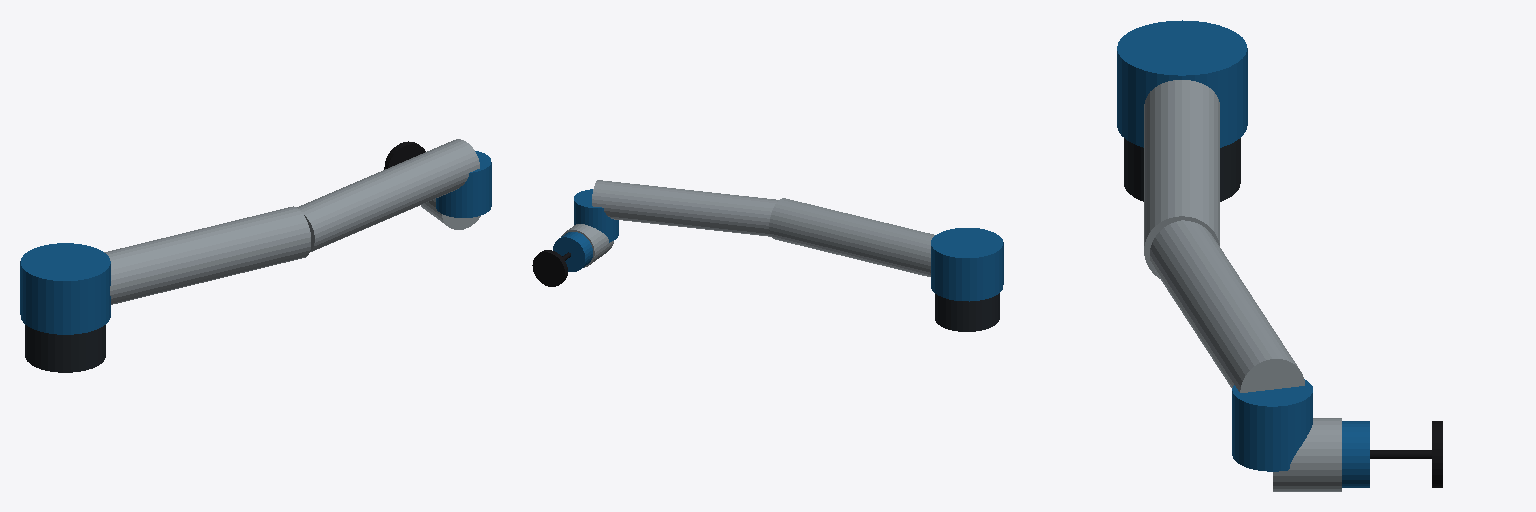
URDF robot description (ur20_primitive):
<?xml version="1.0"?>
<!--
  Primitive visual/collision approximation of a UR20.

  Joint origins and limits follow UniversalRobots/
  Universal_Robots_ROS2_Description 4.3.1 and the nominal model previously
  used in BGF/example/pixi. The cylinders and boxes are intentionally local,
  mesh-free proxies; they are not official UR graphical assets.
-->
<robot name="ur20_primitive">
  <material name="ur_gray"><color rgba="0.58 0.61 0.63 1"/></material>
  <material name="ur_blue"><color rgba="0.12 0.38 0.56 1"/></material>
  <material name="dark"><color rgba="0.16 0.18 0.20 1"/></material>
  <material name="suction"><color rgba="0.12 0.12 0.13 1"/></material>

  <link name="world"/>

  <link name="base_link">
    <visual>
      <origin xyz="0 0 0.11815" rpy="0 0 0"/>
      <geometry><cylinder radius="0.130" length="0.2363"/></geometry>
      <material name="dark"/>
    </visual>
    <collision>
      <origin xyz="0 0 0.11815" rpy="0 0 0"/>
      <geometry><cylinder radius="0.135" length="0.2363"/></geometry>
    </collision>
  </link>

  <link name="base_link_inertia"/>

  <link name="shoulder_link">
    <visual>
      <origin xyz="0 0 0" rpy="0 0 0"/>
      <geometry><cylinder radius="0.145" length="0.190"/></geometry>
      <material name="ur_blue"/>
    </visual>
    <collision>
      <origin xyz="0 0 0" rpy="0 0 0"/>
      <geometry><cylinder radius="0.150" length="0.200"/></geometry>
    </collision>
  </link>

  <link name="upper_arm_link">
    <visual>
      <origin xyz="-0.431 0 0" rpy="0 -1.57079632679 0"/>
      <geometry><cylinder radius="0.085" length="0.862"/></geometry>
      <material name="ur_gray"/>
    </visual>
    <collision>
      <origin xyz="-0.431 0 0" rpy="0 -1.57079632679 0"/>
      <geometry><cylinder radius="0.095" length="0.862"/></geometry>
    </collision>
  </link>

  <link name="forearm_link">
    <visual>
      <origin xyz="-0.36435 0 0.1005" rpy="0 -1.30193 0"/>
      <geometry><cylinder radius="0.075" length="0.75591"/></geometry>
      <material name="ur_gray"/>
    </visual>
    <collision>
      <origin xyz="-0.36435 0 0.1005" rpy="0 -1.30193 0"/>
      <geometry><cylinder radius="0.085" length="0.75591"/></geometry>
    </collision>
  </link>

  <link name="wrist_1_link">
    <visual>
      <origin xyz="0 -0.07965 0" rpy="1.57079632679 0 0"/>
      <geometry><cylinder radius="0.090" length="0.1593"/></geometry>
      <material name="ur_blue"/>
    </visual>
    <collision>
      <origin xyz="0 -0.07965 0" rpy="1.57079632679 0 0"/>
      <geometry><cylinder radius="0.098" length="0.1593"/></geometry>
    </collision>
  </link>

  <link name="wrist_2_link">
    <visual>
      <origin xyz="0 0.07715 0" rpy="-1.57079632679 0 0"/>
      <geometry><cylinder radius="0.082" length="0.1543"/></geometry>
      <material name="ur_gray"/>
    </visual>
    <collision>
      <origin xyz="0 0.07715 0" rpy="-1.57079632679 0 0"/>
      <geometry><cylinder radius="0.090" length="0.1543"/></geometry>
    </collision>
  </link>

  <link name="wrist_3_link">
    <visual>
      <origin xyz="0 0 0" rpy="0 0 0"/>
      <geometry><cylinder radius="0.075" length="0.125"/></geometry>
      <material name="ur_blue"/>
    </visual>
    <collision>
      <origin xyz="0 0 0" rpy="0 0 0"/>
      <geometry><cylinder radius="0.083" length="0.135"/></geometry>
    </collision>
  </link>

  <link name="ft_frame"/>
  <link name="base"/>
  <link name="flange"/>
  <link name="tool0"/>

  <link name="suction_gripper">
    <visual>
      <origin xyz="0 0 0.10" rpy="0 0 0"/>
      <geometry><cylinder radius="0.010" length="0.20"/></geometry>
      <material name="suction"/>
    </visual>
    <collision>
      <origin xyz="0 0 0.10" rpy="0 0 0"/>
      <geometry><cylinder radius="0.010" length="0.20"/></geometry>
    </collision>
  </link>

  <link name="suction_pad">
    <visual>
      <origin xyz="0 0 0.012" rpy="0 0 0"/>
      <geometry><cylinder radius="0.075" length="0.024"/></geometry>
      <material name="suction"/>
    </visual>
    <collision>
      <origin xyz="0 0 0.012" rpy="0 0 0"/>
      <geometry><cylinder radius="0.075" length="0.024"/></geometry>
    </collision>
  </link>

  <joint name="base_joint" type="fixed">
    <parent link="world"/>
    <child link="base_link"/>
    <origin xyz="0 0 0" rpy="0 0 0"/>
  </joint>

  <joint name="base_link-base_link_inertia" type="fixed">
    <parent link="base_link"/>
    <child link="base_link_inertia"/>
    <origin xyz="0 0 0" rpy="0 0 3.141592653589793"/>
  </joint>

  <joint name="shoulder_pan_joint" type="revolute">
    <parent link="base_link_inertia"/>
    <child link="shoulder_link"/>
    <origin xyz="0 0 0.2363" rpy="0 0 0"/>
    <axis xyz="0 0 1"/>
    <limit lower="-6.28318530718" upper="6.28318530718" effort="738" velocity="2.09439510239"/>
  </joint>

  <joint name="shoulder_lift_joint" type="revolute">
    <parent link="shoulder_link"/>
    <child link="upper_arm_link"/>
    <origin xyz="0 0 0" rpy="1.570796327 0 0"/>
    <axis xyz="0 0 1"/>
    <limit lower="-6.28318530718" upper="6.28318530718" effort="738" velocity="2.09439510239"/>
  </joint>

  <joint name="elbow_joint" type="revolute">
    <parent link="upper_arm_link"/>
    <child link="forearm_link"/>
    <origin xyz="-0.862 0 0" rpy="0 0 0"/>
    <axis xyz="0 0 1"/>
    <limit lower="-3.14159265359" upper="3.14159265359" effort="433" velocity="2.61799387799"/>
  </joint>

  <joint name="wrist_1_joint" type="revolute">
    <parent link="forearm_link"/>
    <child link="wrist_1_link"/>
    <origin xyz="-0.7287 0 0.201" rpy="0 0 0"/>
    <axis xyz="0 0 1"/>
    <limit lower="-6.28318530718" upper="6.28318530718" effort="107" velocity="3.66519142919"/>
  </joint>

  <joint name="wrist_2_joint" type="revolute">
    <parent link="wrist_1_link"/>
    <child link="wrist_2_link"/>
    <origin xyz="0 -0.1593 0" rpy="1.570796327 0 0"/>
    <axis xyz="0 0 1"/>
    <limit lower="-6.28318530718" upper="6.28318530718" effort="107" velocity="3.66519142919"/>
  </joint>

  <joint name="wrist_3_joint" type="revolute">
    <parent link="wrist_2_link"/>
    <child link="wrist_3_link"/>
    <origin xyz="0 0.1543 0" rpy="1.57079632659 3.14159265359 3.14159265359"/>
    <axis xyz="0 0 1"/>
    <limit lower="-6.28318530718" upper="6.28318530718" effort="107" velocity="3.66519142919"/>
  </joint>

  <joint name="wrist_3_link-ft_frame" type="fixed">
    <parent link="wrist_3_link"/>
    <child link="ft_frame"/>
    <origin xyz="0 0 0" rpy="3.14159265359 0 0"/>
  </joint>
  <joint name="base_link-base_fixed_joint" type="fixed">
    <parent link="base_link"/>
    <child link="base"/>
    <origin xyz="0 0 0" rpy="0 0 3.14159265359"/>
  </joint>
  <joint name="wrist_3-flange" type="fixed">
    <parent link="wrist_3_link"/>
    <child link="flange"/>
    <origin xyz="0 0 0" rpy="0 -1.57079632679 -1.57079632679"/>
  </joint>
  <joint name="flange-tool0" type="fixed">
    <parent link="flange"/>
    <child link="tool0"/>
    <origin xyz="0 0 0" rpy="1.57079632679 0 1.57079632679"/>
  </joint>
  <joint name="tool0-suction_gripper" type="fixed">
    <parent link="tool0"/>
    <child link="suction_gripper"/>
    <origin xyz="0 0 0" rpy="0 0 0"/>
  </joint>
  <joint name="suction_gripper-pad" type="fixed">
    <parent link="suction_gripper"/>
    <child link="suction_pad"/>
    <origin xyz="0 0 0.20" rpy="0 0 0"/>
  </joint>
</robot>

--- Render facts (derived) ---
The picture shows the robot from 3 angles, left to right: view 1: azimuth 30°, elevation 25°; view 2: azimuth 150°, elevation 25°; view 3: azimuth 270°, elevation 25°; orthographic projection.
Model ur20_primitive with 15 links and 14 joints (6 revolute, 8 fixed), rooted at world, posed every joint at zero.
Visible links, largest first — view 1: upper_arm_link, forearm_link, shoulder_link, base_link, wrist_1_link, suction_pad, wrist_2_link; view 2: upper_arm_link, forearm_link, shoulder_link, base_link, wrist_1_link, wrist_3_link, suction_pad, wrist_2_link; view 3: forearm_link, upper_arm_link, shoulder_link, wrist_1_link, wrist_2_link, base_link, wrist_3_link, suction_pad, suction_gripper.
Boxes of the visible links, <box> form: upper_arm_link: <box>104,206,310,304</box>; forearm_link: <box>297,139,479,251</box>; shoulder_link: <box>20,243,110,334</box>; base_link: <box>25,325,105,372</box>; wrist_1_link: <box>436,151,491,217</box>; suction_pad: <box>384,141,425,169</box>; wrist_2_link: <box>421,199,480,229</box>; upper_arm_link: <box>769,198,934,276</box>; forearm_link: <box>592,180,778,236</box>; shoulder_link: <box>931,228,1003,301</box>; base_link: <box>935,293,999,331</box>; wrist_1_link: <box>574,189,618,242</box>; wrist_3_link: <box>553,232,592,271</box>; suction_pad: <box>532,250,567,286</box>; wrist_2_link: <box>561,224,613,267</box>; forearm_link: <box>1150,220,1304,392</box>; upper_arm_link: <box>1144,80,1219,278</box>; shoulder_link: <box>1117,20,1247,147</box>; wrist_1_link: <box>1232,379,1312,471</box>; wrist_2_link: <box>1273,418,1341,491</box>; base_link: <box>1124,138,1240,201</box>; wrist_3_link: <box>1342,421,1369,487</box>; suction_pad: <box>1432,421,1442,487</box>; suction_gripper: <box>1370,450,1431,458</box>.
Bounding box of the posed robot: 1.83 × 0.7243 × 0.3363 m (x, y, z).
Geometry: primitives only (box / cylinder / sphere), no mesh files.
